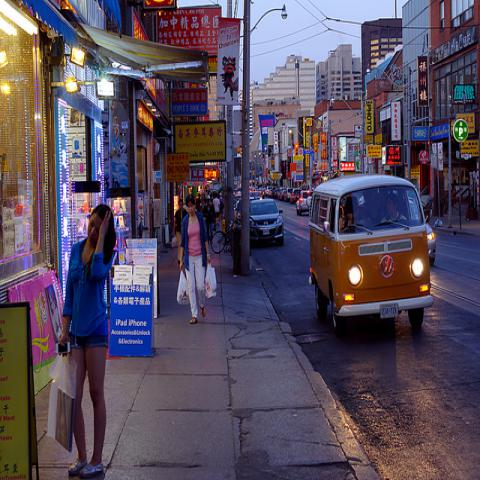car: (249, 199, 284, 247), (295, 191, 313, 217), (426, 222, 436, 266), (290, 188, 302, 205), (277, 188, 287, 200), (286, 188, 294, 201), (274, 190, 280, 197), (249, 196, 255, 201)
truck: (308, 173, 435, 335)
